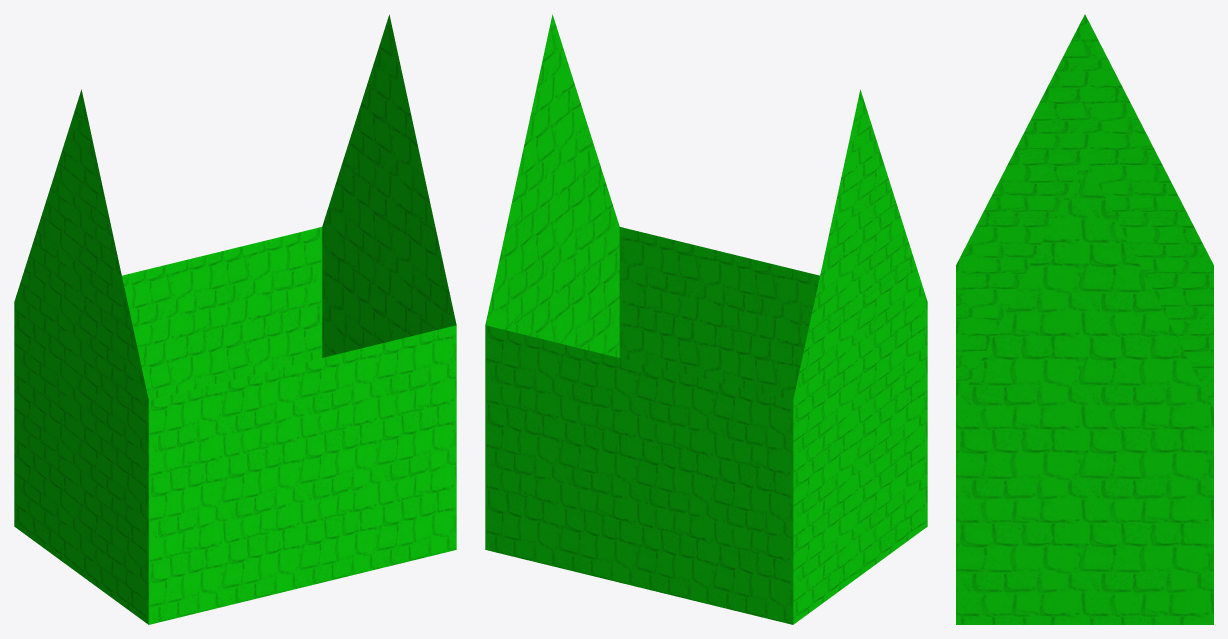
3 views of the same model, side by side, from view 1: azimuth 30°, elevation 25°; view 2: azimuth 150°, elevation 25°; view 3: azimuth 270°, elevation 25° (orthographic). The views are drawn at different scales.
Parts seen in each view (by area): view 1: 별관_몸통; view 2: 별관_몸통; view 3: 별관_몸통.
Boxes of the visible parts, left/top/right/bottom form: 별관_몸통: left=14, top=14, right=456, bottom=624; 별관_몸통: left=485, top=14, right=927, bottom=624; 별관_몸통: left=956, top=14, right=1213, bottom=624.
Bounding box in the file's own units: 305 × 461 × 231.
